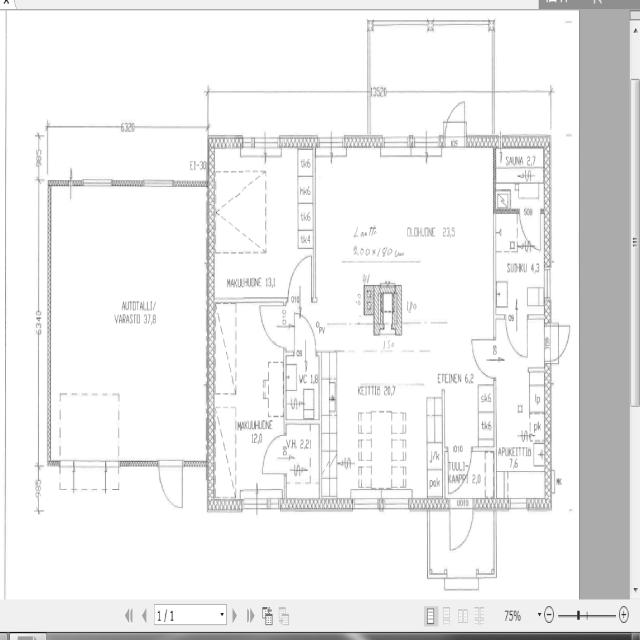door: (156, 454, 186, 514), (286, 252, 314, 304), (258, 298, 285, 351), (448, 502, 474, 555), (446, 443, 472, 494), (517, 204, 544, 253), (442, 99, 468, 149), (470, 338, 497, 380), (260, 430, 284, 476), (293, 310, 317, 354), (504, 319, 529, 361), (551, 322, 572, 363)
window: (239, 131, 284, 158), (240, 493, 282, 519), (316, 130, 348, 158), (380, 130, 413, 156), (76, 172, 115, 194), (350, 492, 382, 518), (140, 173, 175, 193), (381, 494, 411, 517), (508, 498, 528, 515)
zone: (52, 176, 212, 460), (319, 358, 436, 504), (212, 147, 314, 297), (212, 301, 285, 494), (494, 210, 548, 316), (493, 363, 548, 463), (495, 445, 549, 509), (284, 423, 321, 505), (495, 150, 547, 208), (284, 347, 320, 424), (447, 443, 471, 496)
